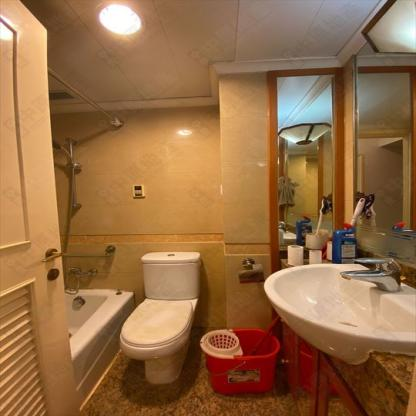Bathtub: (62, 288, 135, 407)
Faucet: (341, 258, 402, 290)
Toilet: (121, 250, 200, 382)
Toilet Sink: (260, 262, 415, 365)
